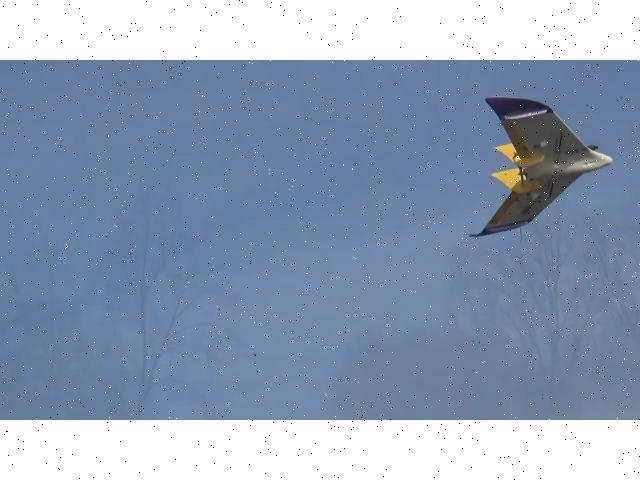Anti-Drone: (467, 97, 613, 238)
